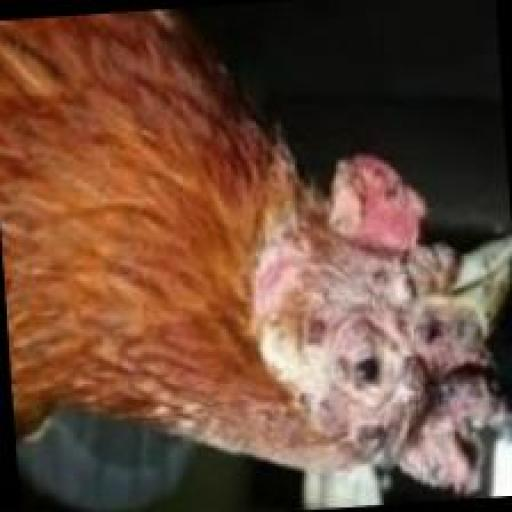disease: (268, 160, 509, 507)
